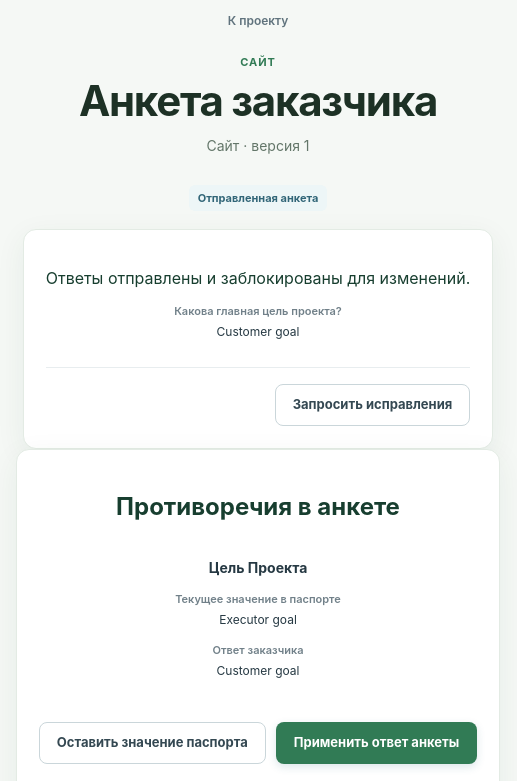
Test: executor sees conflicts, keeps the passport value, and can request a correction
Later steps or results of the test are not shown.
Expected: the text "Executor goal" is shown, [219,612,297,626]
Expected: the text "Customer goal" is shown 2 times, [216,324,299,339]; [216,663,299,678]
Click the button "Оставить значение паспорта" at x=152, y=743, box [39,722,266,764]
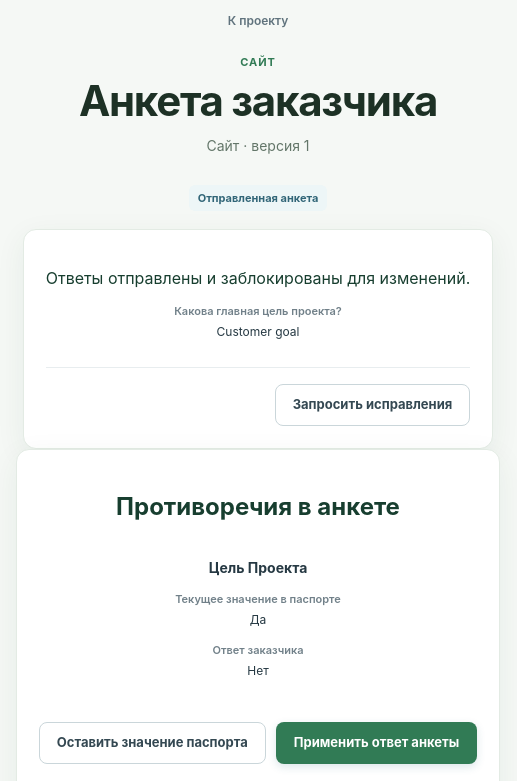
Expected: the text "Да" is shown, [250,612,266,626]
Result: the text "Executor goal" is gone
